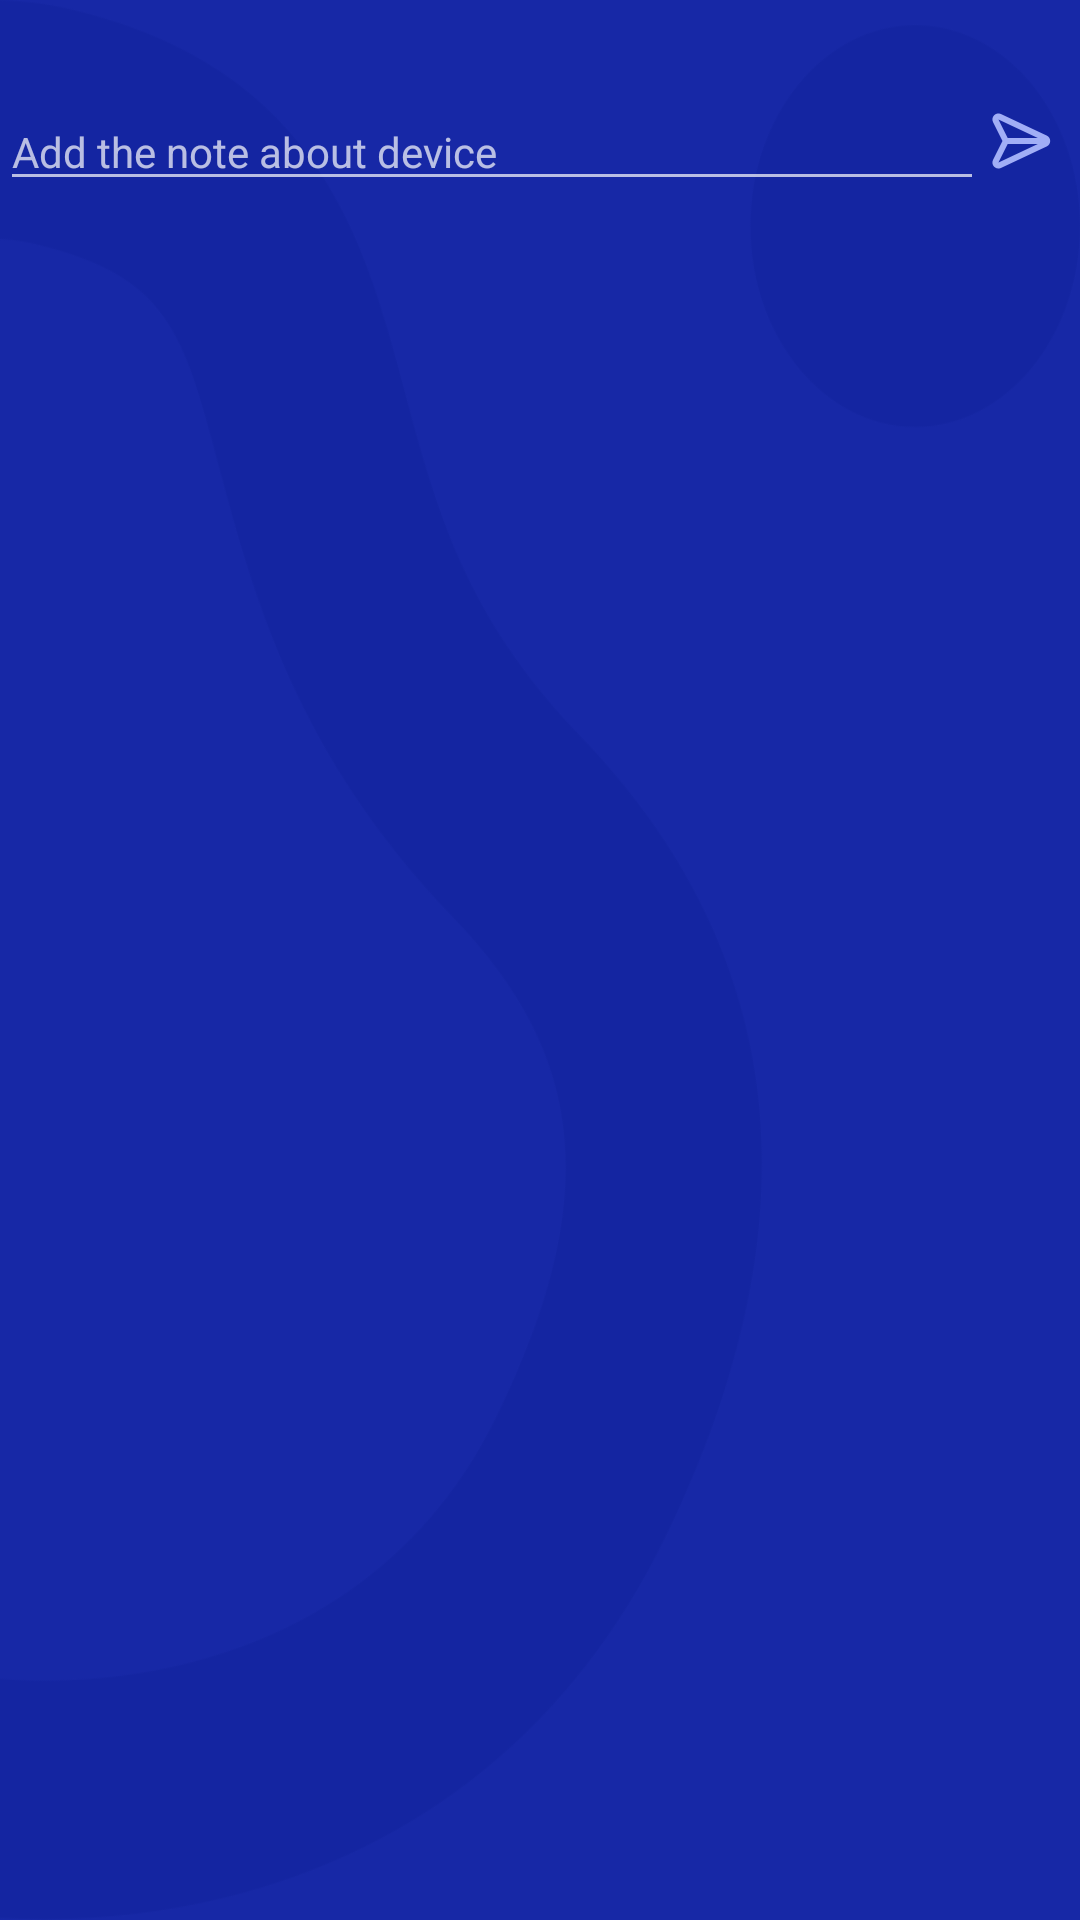

Named icons in this screenshot (1080px×1920px) and their centers, [x,y]:
send: [1021,141]
